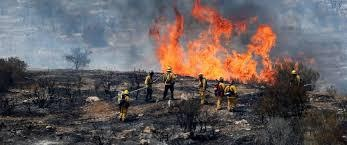fire: (154, 4, 289, 82)
